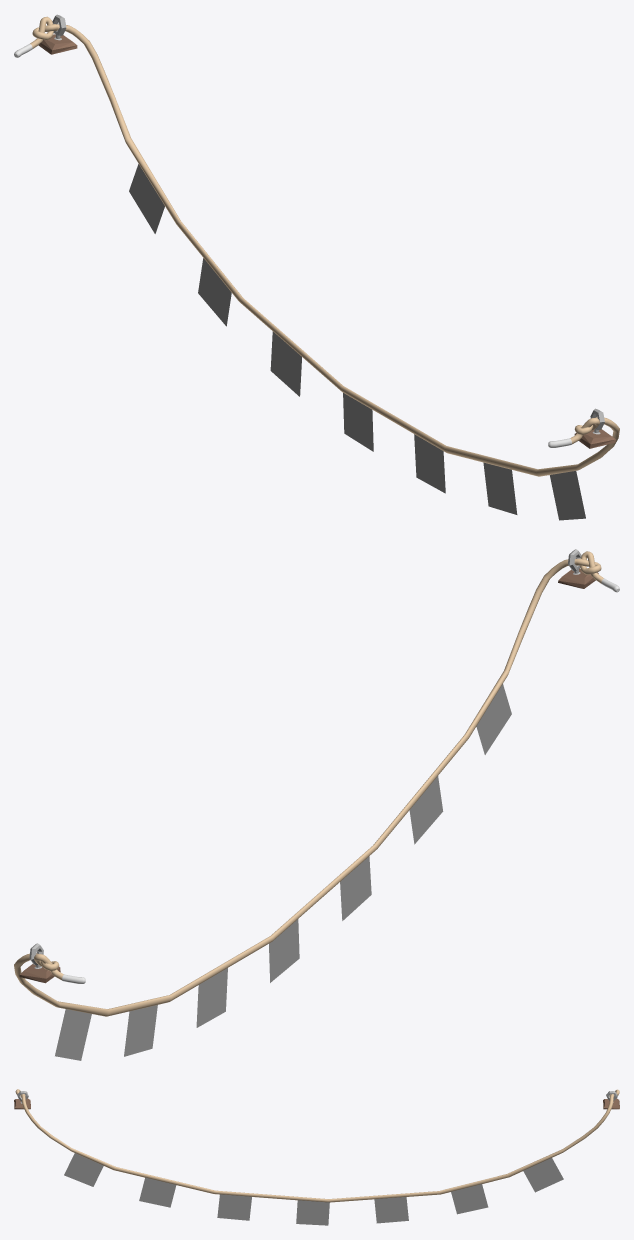
The model's file is bridge_piece_flagrope_01.fbx.
3 views of the same model, one above another, from view 1: azimuth 30°, elevation 25°; view 2: azimuth 150°, elevation 25°; view 3: azimuth 270°, elevation 25° (orthographic). The views are drawn at different scales.
Visible parts, largest first — view 1: bridge_piece_flagrope_01; view 2: bridge_piece_flagrope_01; view 3: bridge_piece_flagrope_01.
Boxes of the visible parts, left/top/right/bottom form: bridge_piece_flagrope_01: left=14, top=14, right=619, bottom=520; bridge_piece_flagrope_01: left=14, top=549, right=619, bottom=1060; bridge_piece_flagrope_01: left=14, top=1089, right=619, bottom=1225.
Size of the model in its own units: 43.57 by 126 by 538.
